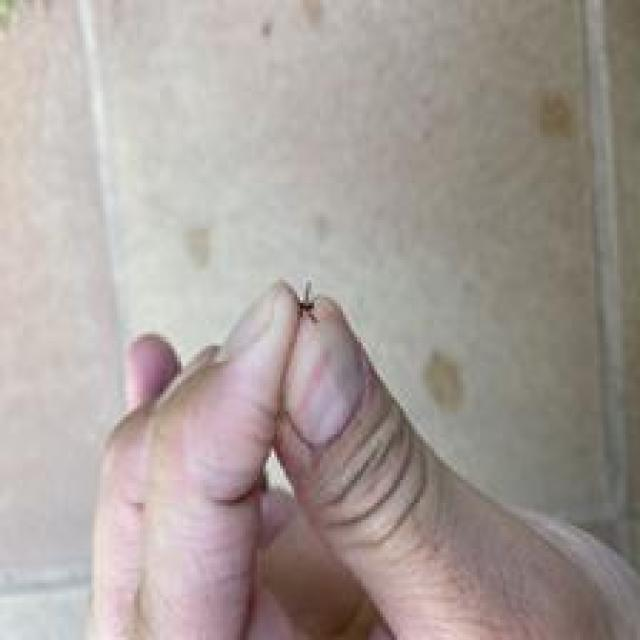Aedes albopictus: (296, 279, 318, 324)
